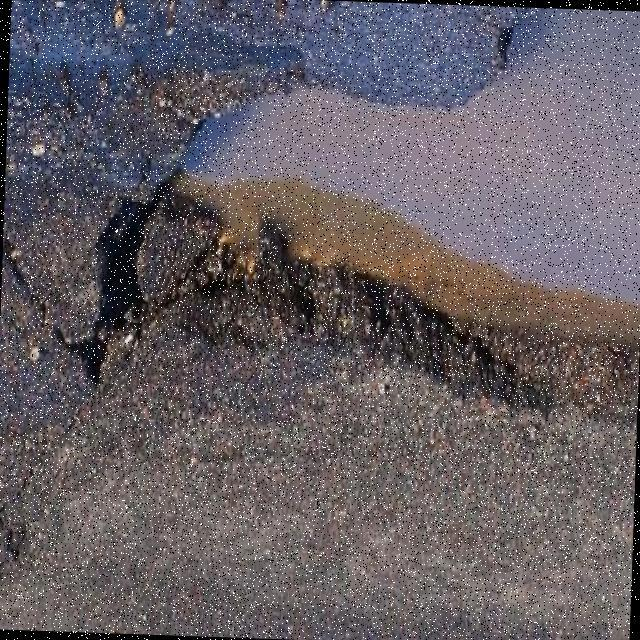Pothole: (83, 7, 640, 424)
